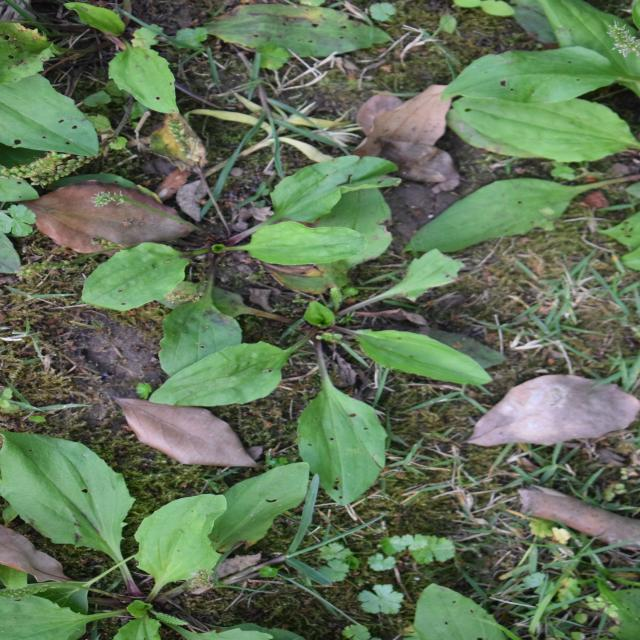plantain: (216, 184, 468, 514)
